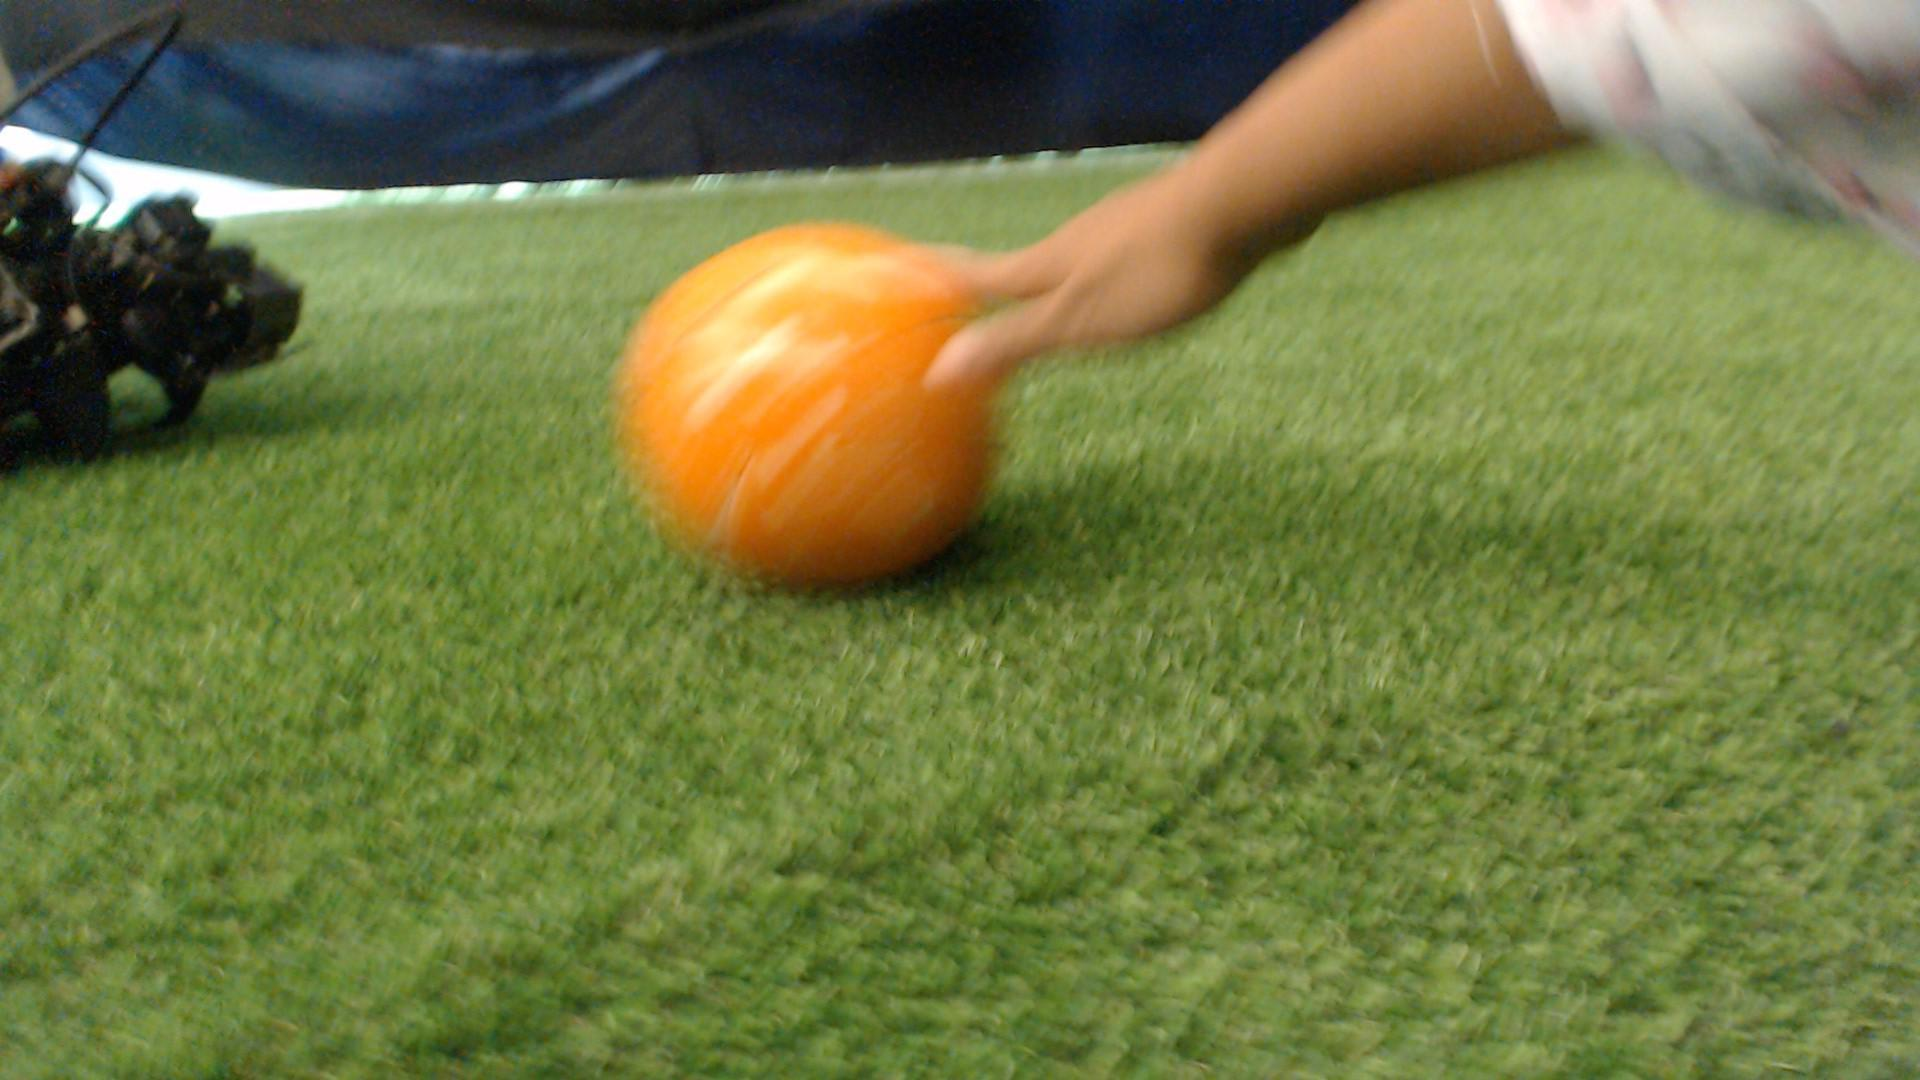bola: (595, 189, 1059, 611)
